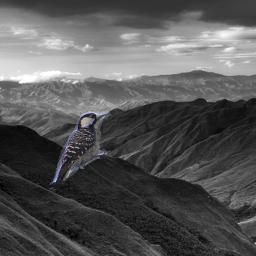Woodpecker: (46, 108, 112, 194)
